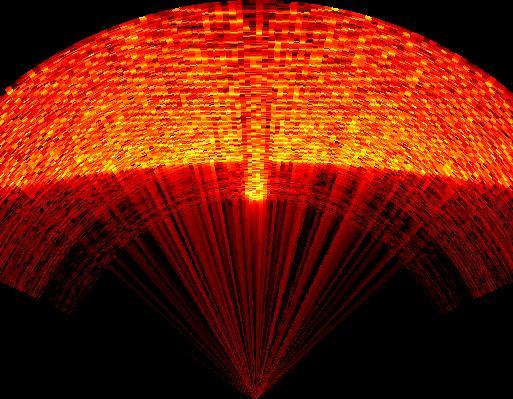pipe: (242, 0, 271, 200)
